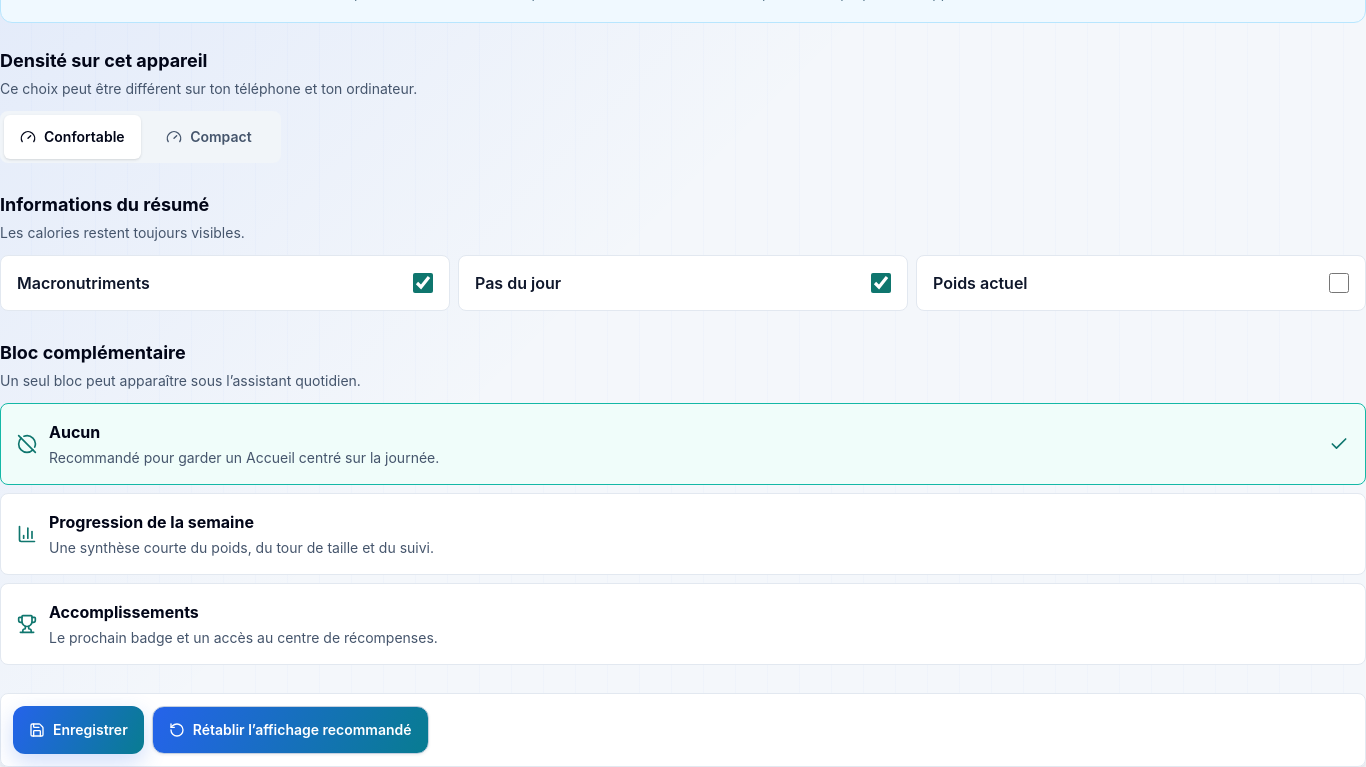
DashboardCustomizationPage › reste silencieuse au chargement puis affiche un seul succès local
(page scrolled)
Click the button "Enregistrer" at (78, 730), box [13,706,144,754]
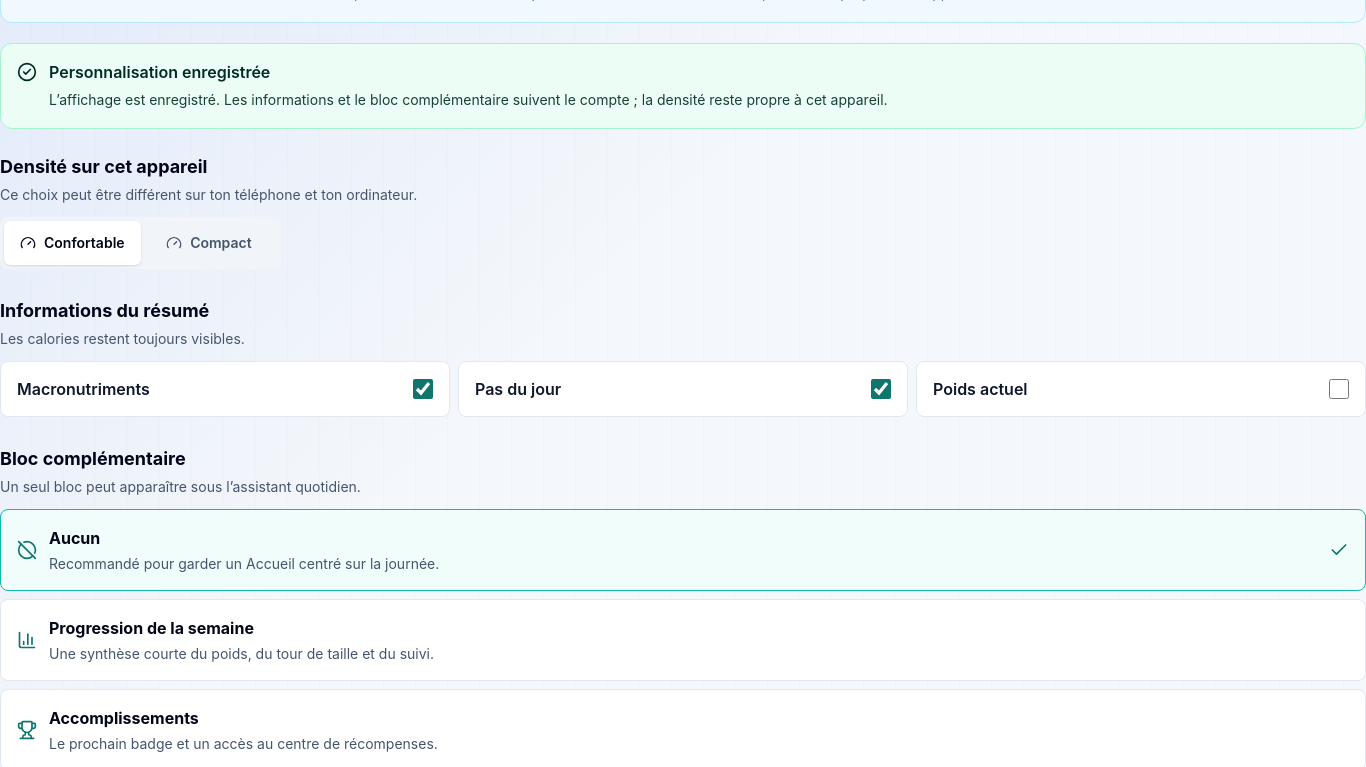
Expected: the number of messages is 1, [0,43,1365,129]
Expected: the message shows "Personnalisation enregistrée", [49,62,270,82]
